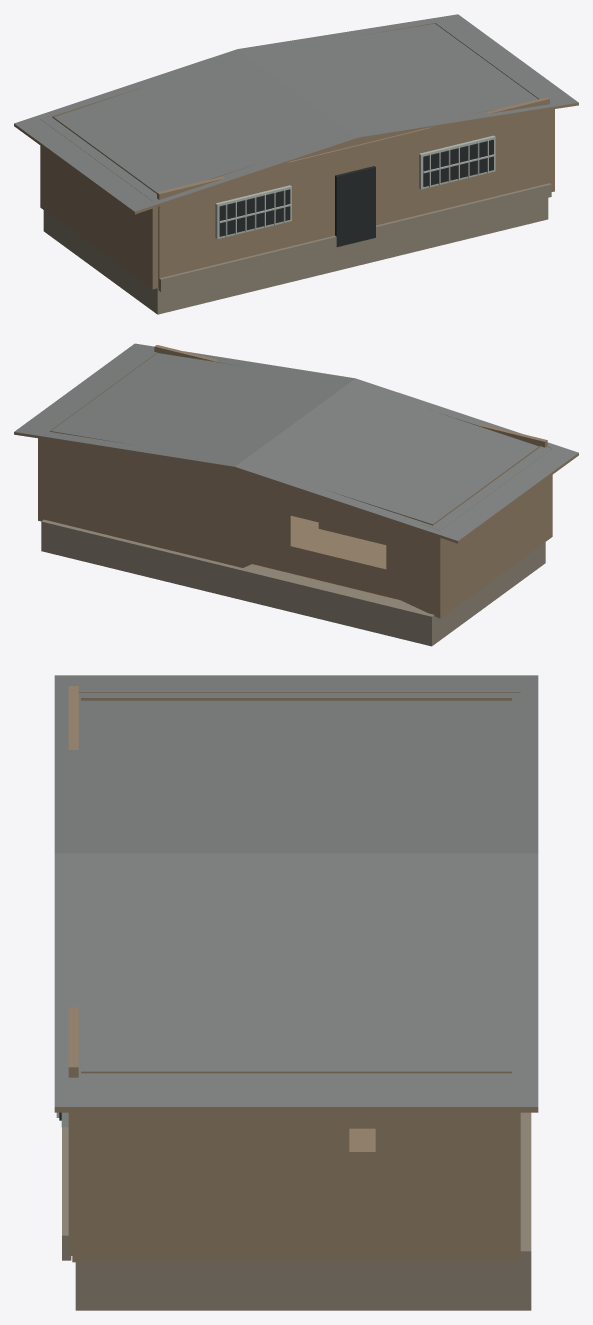
File: casa_adobe.glb
3 renders of one model, top to bottom at view 1: azimuth 30°, elevation 25°; view 2: azimuth 150°, elevation 25°; view 3: azimuth 270°, elevation 25°, orthographic. The views are drawn at different scales.
Parts seen in each view (by area): view 1: House1 adaptada, Muro de fachada, Cimentación, Zócalo frontal, Puerta central, Vidrio, Vidrio.001, Marco de ventana, Marco de ventana.001; view 2: House1 adaptada, Cimentación, Muro de fachada; view 3: House1 adaptada, Cimentación, Muro de fachada, Zócalo frontal.
Part boxes in pixels (box(x1,y1,x2,y2)): House1 adaptada: box(14, 14, 578, 289); Muro de fachada: box(157, 97, 549, 287); Cimentación: box(43, 198, 548, 314); Zócalo frontal: box(158, 183, 551, 291); Puerta central: box(335, 166, 375, 246); Vidrio: box(219, 189, 290, 236); Vidrio.001: box(423, 139, 493, 186); Marco de ventana: box(215, 185, 291, 239); Marco de ventana.001: box(419, 135, 495, 189); House1 adaptada: box(14, 343, 578, 618); Cimentación: box(41, 519, 545, 646); Muro de fachada: box(154, 345, 547, 447); House1 adaptada: box(54, 675, 538, 1262); Cimentación: box(75, 1112, 531, 1310); Muro de fachada: box(68, 686, 78, 1255); Zócalo frontal: box(62, 1127, 71, 1260).
Bounding box in the file's own units: 13.3 × 3.82 × 6.27.
